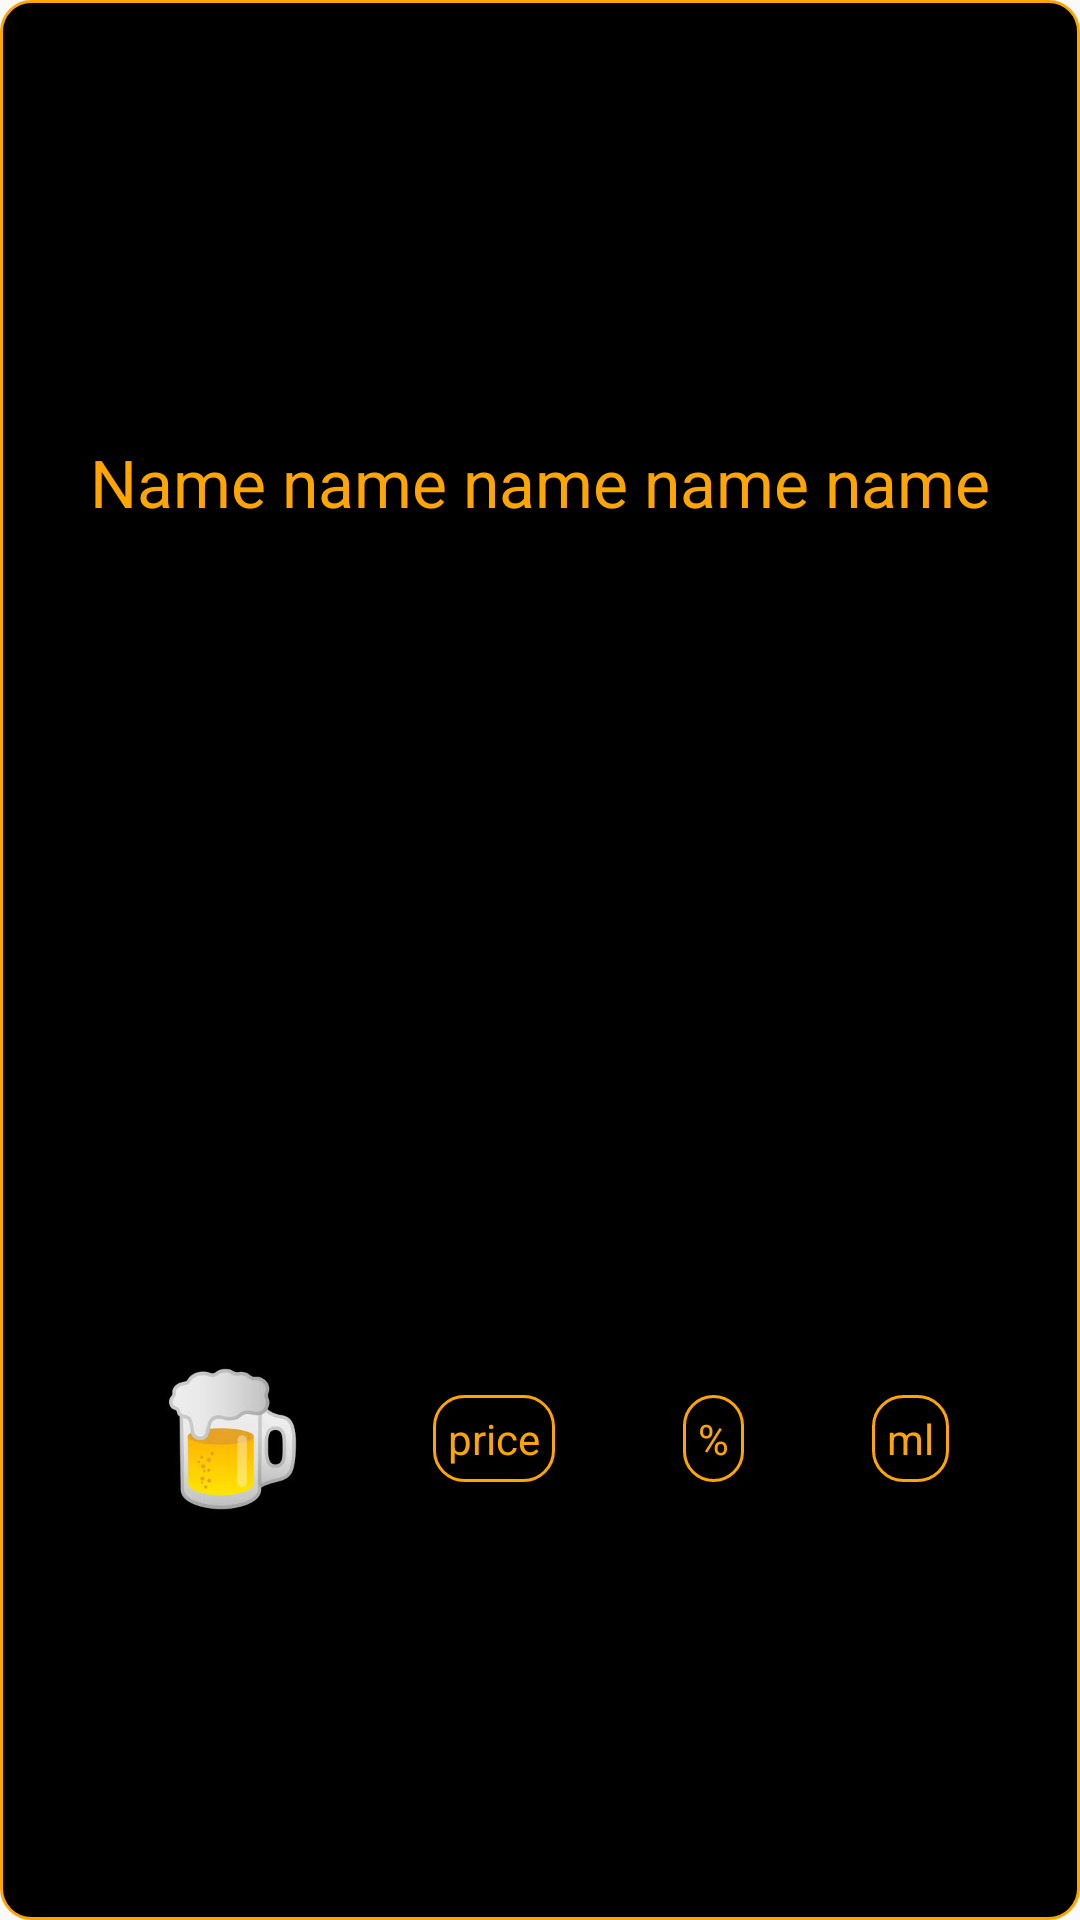

Screen size 1080 × 1920. Icon name, then its center in pixels as (x,y):
beer: (232,1439)
